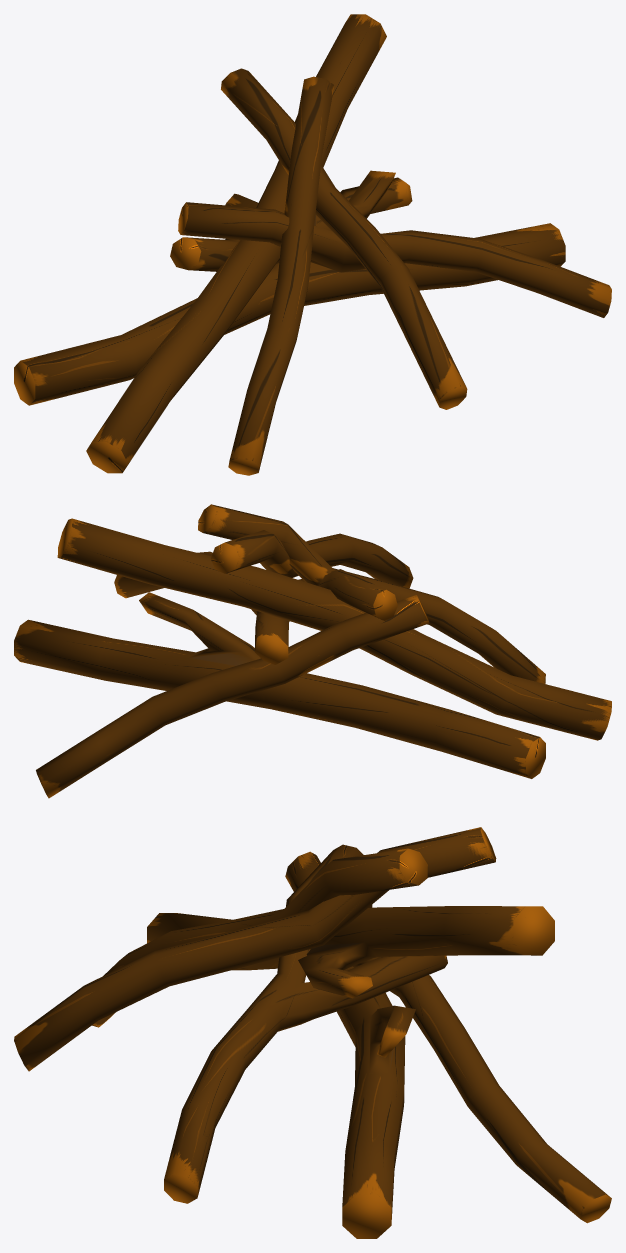
File: Firepit1.fbx
3 views of the same model, one above another, from view 1: azimuth 30°, elevation 25°; view 2: azimuth 150°, elevation 25°; view 3: azimuth 270°, elevation 25° (orthographic). The views are drawn at different scales.
Parts seen in each view (by area): view 1: Stick3; view 2: Stick3; view 3: Stick3.
Boxes of the visible parts, left/top/right/bottom form: Stick3: left=14, top=14, right=611, bottom=475; Stick3: left=14, top=504, right=611, bottom=798; Stick3: left=14, top=827, right=611, bottom=1238.
Size of the model in its own units: 157 by 75.64 by 129.
Materials: 1 (1 with a texture image).
